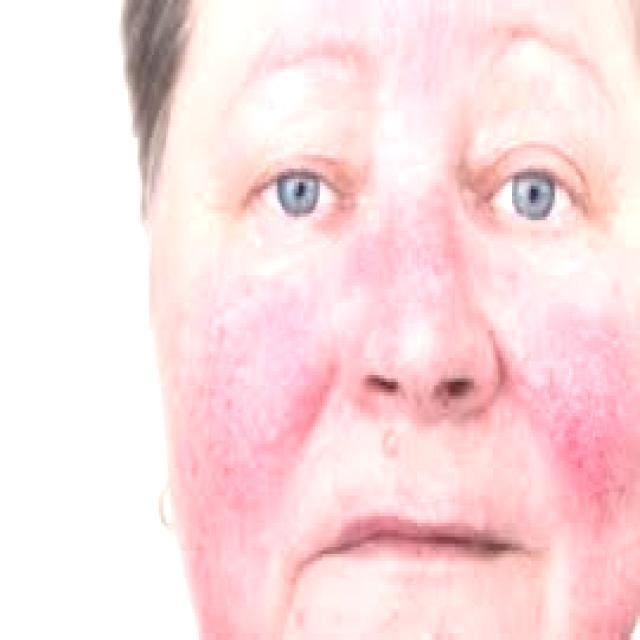Rosacea: (176, 256, 346, 634), (508, 293, 640, 640), (358, 175, 498, 368)
